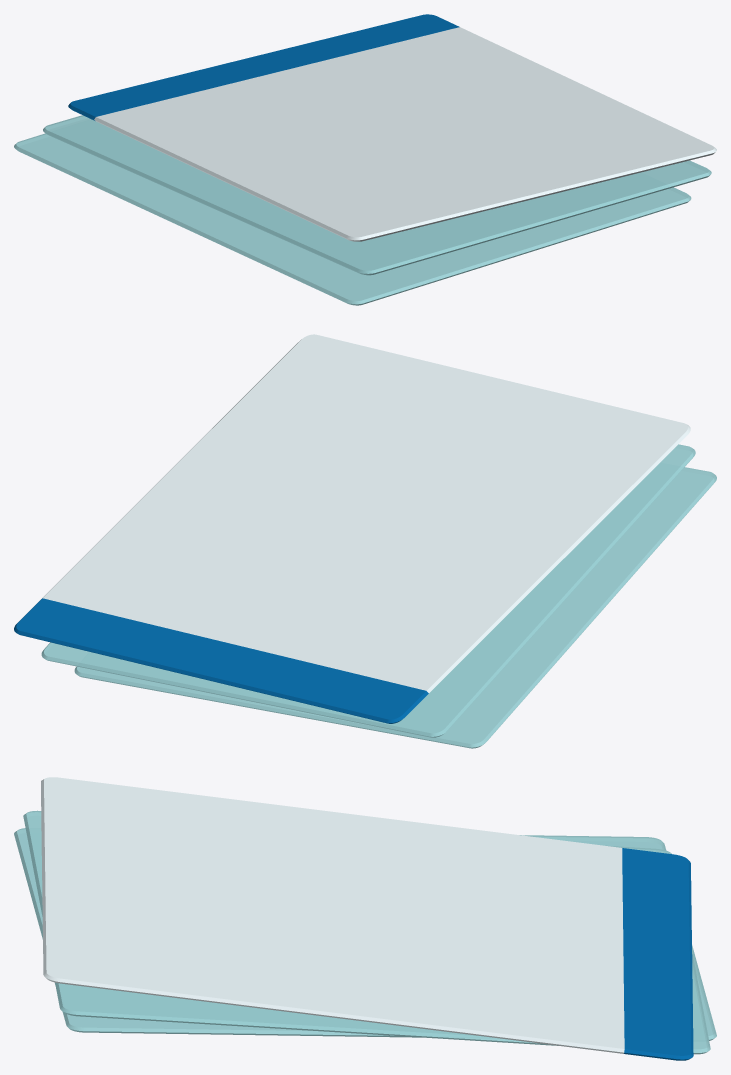
Rendered from Stacked_Cards.fbx.
The picture shows the model from 3 angles, top to bottom: view 1: azimuth 30°, elevation 25°; view 2: azimuth 150°, elevation 25°; view 3: azimuth 270°, elevation 25°; orthographic projection. The views are drawn at different scales.
Visible parts, largest first — view 1: Plane.003, Plane.004, Plane.005; view 2: Plane.003, Plane.004, Plane.005; view 3: Plane.003, Plane.004, Plane.005.
Boxes of the visible parts, bbox=[...] form: Plane.003: bbox=[68, 14, 716, 241]; Plane.004: bbox=[43, 115, 711, 275]; Plane.005: bbox=[14, 133, 691, 305]; Plane.003: bbox=[14, 334, 690, 723]; Plane.004: bbox=[41, 444, 695, 737]; Plane.005: bbox=[74, 467, 716, 748]; Plane.003: bbox=[41, 777, 693, 1060]; Plane.004: bbox=[23, 810, 710, 1054]; Plane.005: bbox=[14, 828, 716, 1040].
Bounding box in the file's own units: 523 × 106 × 643.
